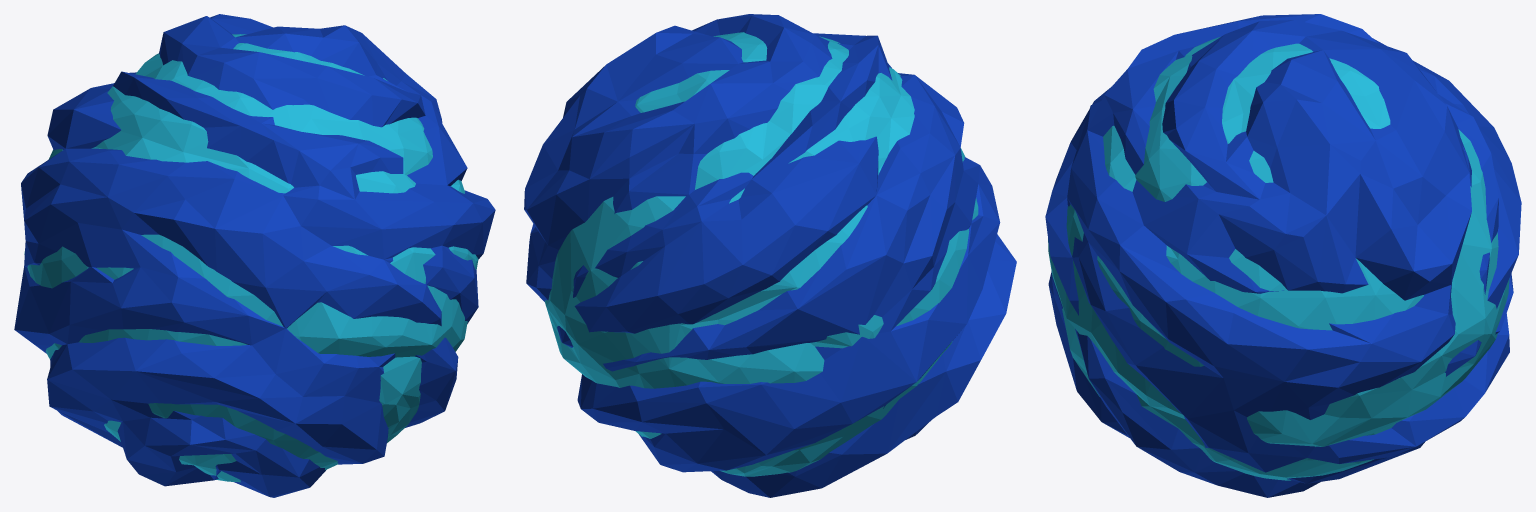
File: SM_PlanetH.fbx
3 views of the same model, side by side, from view 1: azimuth 30°, elevation 25°; view 2: azimuth 150°, elevation 25°; view 3: azimuth 270°, elevation 25° (orthographic). The views are drawn at different scales.
Parts seen in each view (by area): view 1: PlanetH; view 2: PlanetH; view 3: PlanetH.
Part boxes in pixels (x1,y1,x2,y2): PlanetH: (14, 14, 495, 497); PlanetH: (524, 14, 1016, 497); PlanetH: (1045, 14, 1521, 497).
Bounding box in the file's own units: 2.08 × 2.05 × 2.
1 material, 1 textured.
